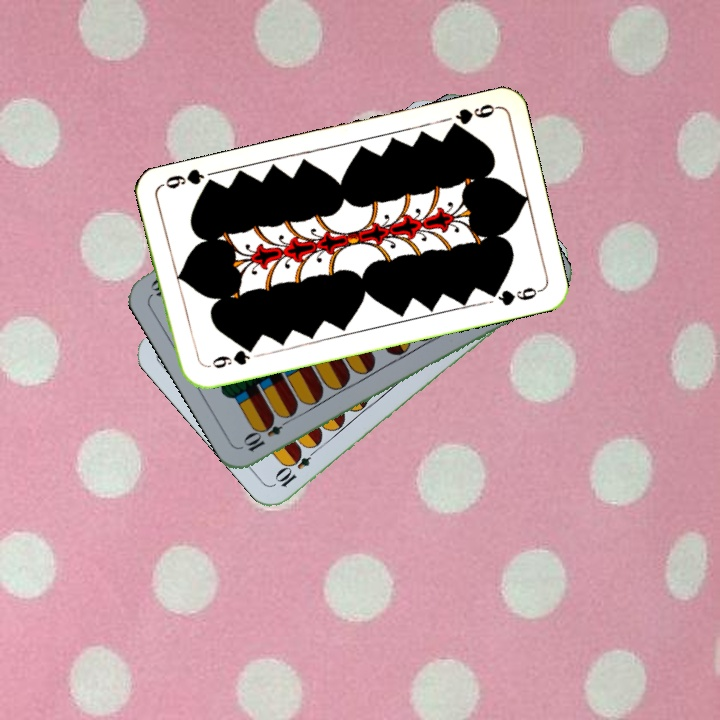E10: (272, 442, 322, 490), (240, 412, 294, 455)
G9: (444, 99, 500, 134), (201, 343, 257, 371)
